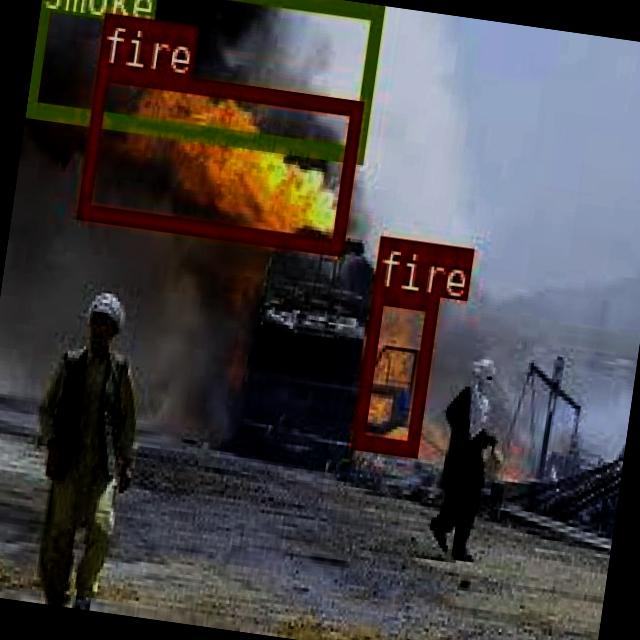fire: (76, 64, 361, 252), (350, 285, 438, 455)
smoke: (25, 0, 383, 161)
